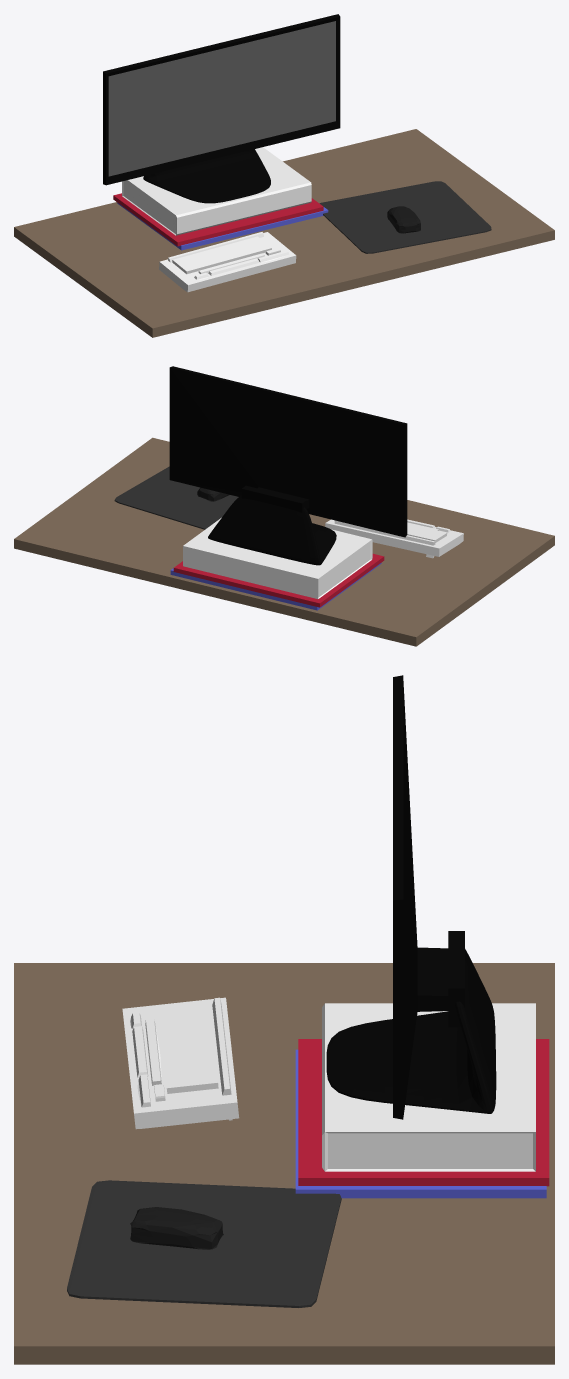
The model's file is dchen1.dae.
The picture shows the model from 3 angles, top to bottom: view 1: azimuth 30°, elevation 25°; view 2: azimuth 150°, elevation 25°; view 3: azimuth 270°, elevation 25°; orthographic projection. The views are drawn at different scales.
Parts seen in each view (by area): view 1: Cube-S3D-16, Cube-S3D-15, Cube-S3D-23, Cube-S3D-17, Cube-S3D-14, Cube-S3D-20, Cube-S3D-13, Cube-S3D-18, Cube-S3D-19, Cube-S3D-24; view 2: Cube-S3D-16, Cube-S3D-14, Cube-S3D-17, Cube-S3D-13, Cube-S3D-23, Cube-S3D-20, Cube-S3D-18, Cube-S3D-19; view 3: Cube-S3D-16, Cube-S3D-23, Cube-S3D-17, Cube-S3D-13, Cube-S3D-20, Cube-S3D-14, Cube-S3D-18, Cube-S3D-19, Cube-S3D-24.
Boxes of the visible parts, x1,y1,x2,y2 form: Cube-S3D-16: (14, 129, 554, 337); Cube-S3D-15: (108, 21, 335, 176); Cube-S3D-23: (319, 181, 491, 253); Cube-S3D-17: (122, 147, 311, 235); Cube-S3D-14: (103, 14, 340, 185); Cube-S3D-20: (159, 232, 296, 292); Cube-S3D-13: (143, 149, 270, 203); Cube-S3D-18: (113, 193, 323, 246); Cube-S3D-19: (117, 202, 328, 250); Cube-S3D-24: (387, 206, 420, 233); Cube-S3D-16: (14, 437, 554, 646); Cube-S3D-14: (169, 366, 407, 537); Cube-S3D-17: (183, 517, 372, 598); Cube-S3D-13: (208, 495, 336, 565); Cube-S3D-23: (114, 466, 238, 529); Cube-S3D-20: (325, 519, 463, 558); Cube-S3D-18: (173, 553, 384, 607); Cube-S3D-19: (170, 563, 381, 610); Cube-S3D-16: (14, 963, 554, 1364); Cube-S3D-23: (67, 1180, 341, 1307); Cube-S3D-17: (322, 1003, 535, 1171); Cube-S3D-13: (326, 949, 496, 1113); Cube-S3D-20: (122, 997, 239, 1129); Cube-S3D-14: (393, 675, 464, 1119); Cube-S3D-18: (298, 1039, 549, 1186); Cube-S3D-19: (295, 1049, 546, 1198); Cube-S3D-24: (130, 1207, 223, 1249).
Bounding box in the file's own units: 7.23 × 3.11 × 4.31.
